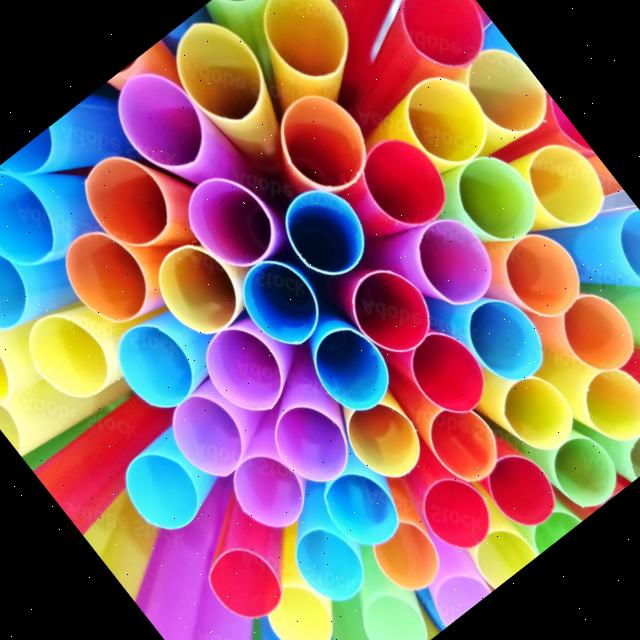plastic: (155, 480, 318, 640)
